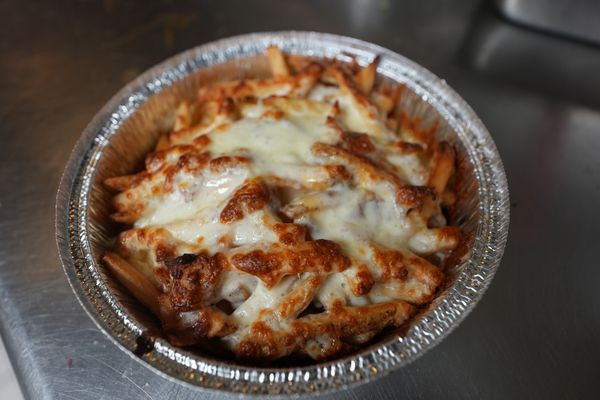curry: (13, 1, 599, 390)
sandwich: (86, 46, 488, 367)
